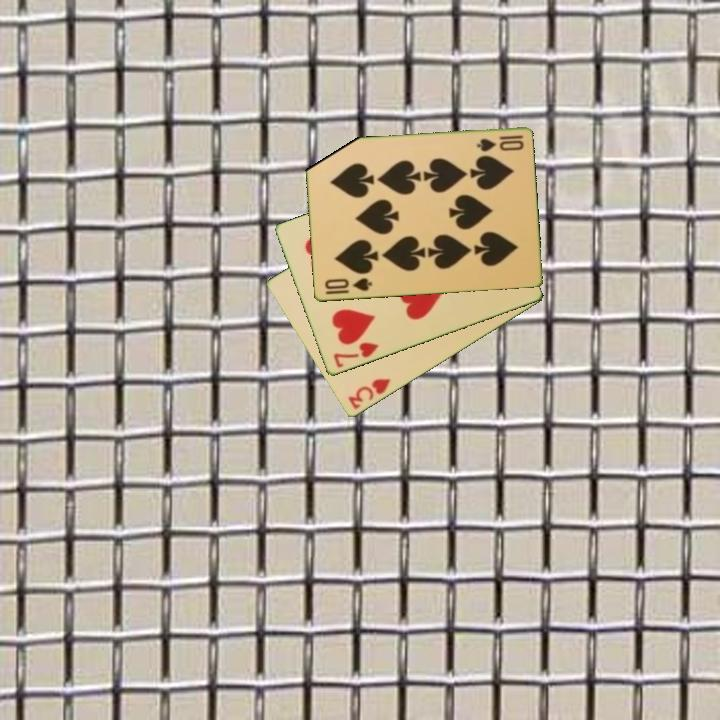10s: (473, 132, 526, 155), (321, 274, 374, 294)
3h: (344, 375, 393, 413)
7h: (330, 339, 381, 371)
